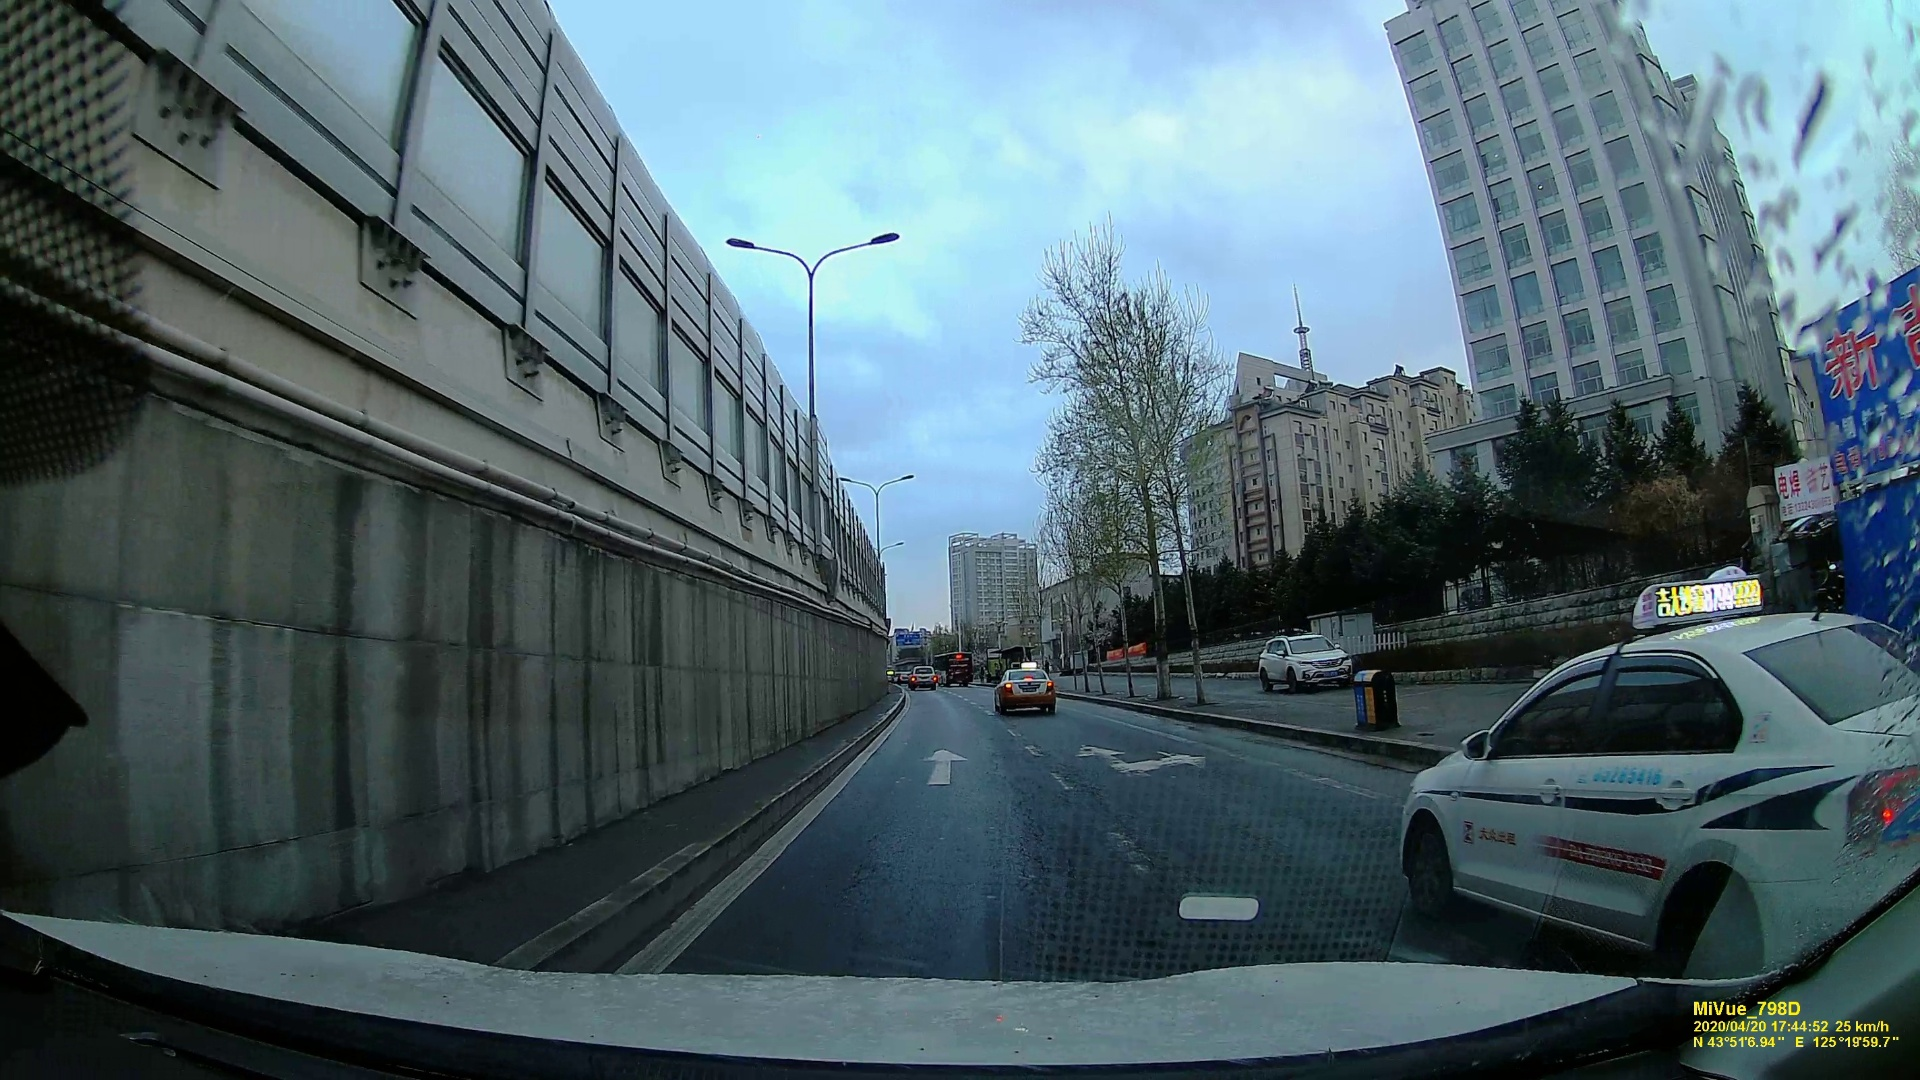bus: (935, 651, 975, 688)
traffic_sign: (895, 632, 920, 646)
vehicle: (1403, 583, 1895, 972), (1258, 632, 1356, 690), (992, 665, 1058, 715), (909, 666, 938, 690)
